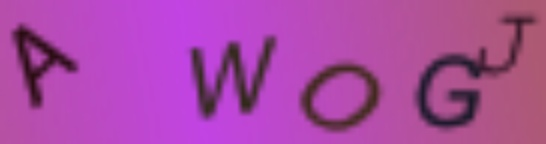A: (8, 23, 82, 111)
G: (413, 52, 481, 132)
J: (481, 11, 536, 79)
O: (299, 61, 386, 134)
W: (188, 32, 277, 120)
